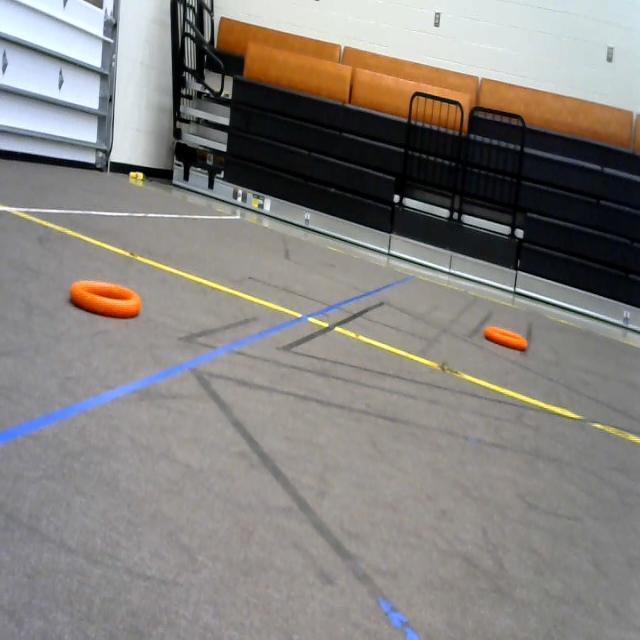note: (67, 278, 144, 319), (482, 321, 529, 358)
